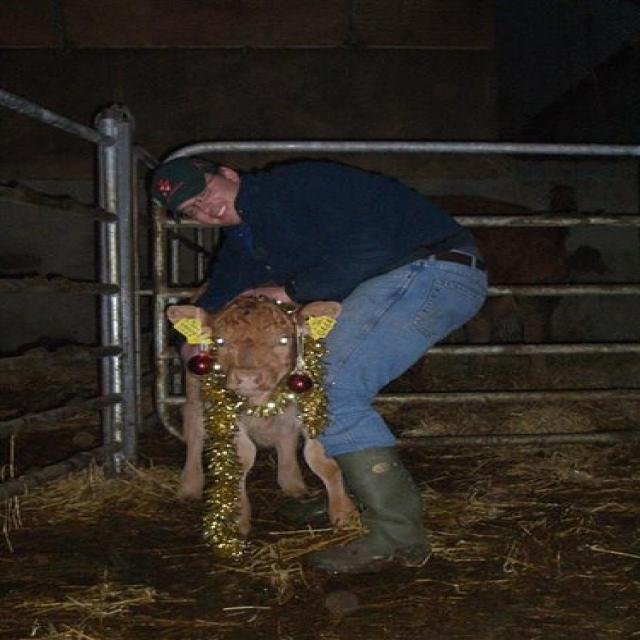cow: (169, 294, 353, 528)
